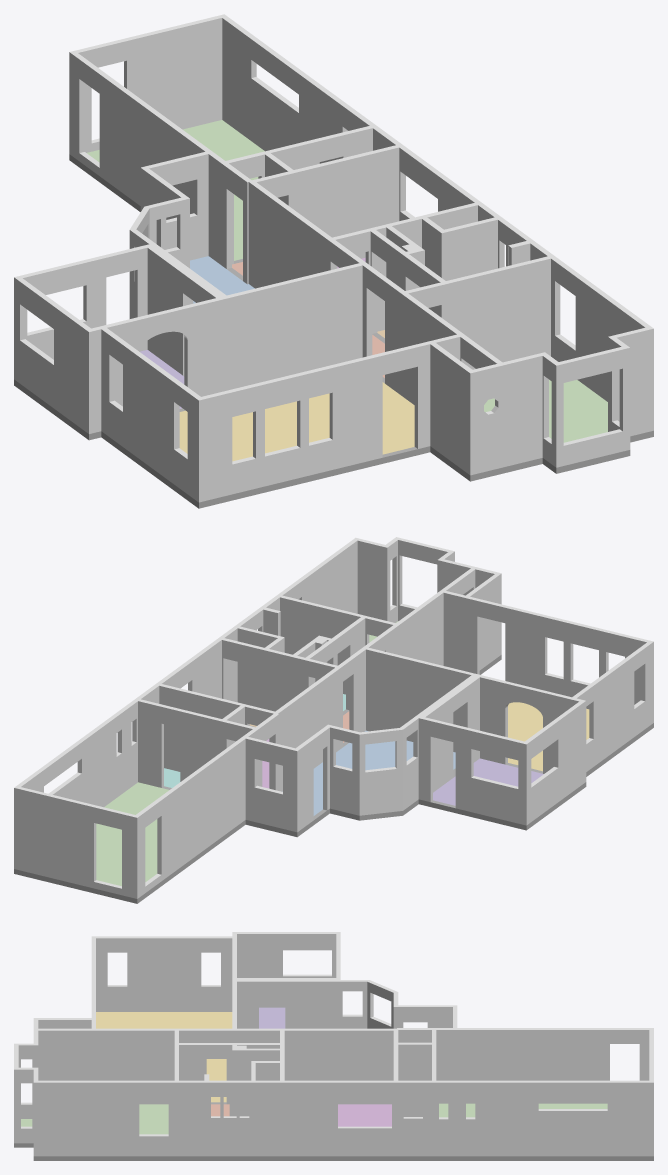
Rendered from dixon_house.gltf.
3 views of the same model, one above another, from view 1: azimuth 30°, elevation 25°; view 2: azimuth 150°, elevation 25°; view 3: azimuth 270°, elevation 25° (orthographic). The views are drawn at different scales.
Parts seen in each view (by area): view 1: Walls, Living Room, Foundation, Front Bedroom, Master Bedroom, Kitchen; view 2: Walls, Foundation, Master Bedroom, Kitchen, Living Room, Dining Room; view 3: Walls, Foundation, Living Room, Den, Front Bedroom, Master Bedroom, Dining Room.
Part boxes in pixels (box(x1,y1,x2,y2)): Walls: box(14, 14, 653, 502); Living Room: box(179, 382, 414, 461); Foundation: box(14, 154, 653, 508); Front Bedroom: box(484, 379, 607, 442); Master Bedroom: box(87, 120, 264, 260); Kitchen: box(190, 256, 254, 303); Walls: box(14, 537, 653, 898); Foundation: box(14, 655, 653, 903); Master Bedroom: box(96, 782, 169, 886); Kitchen: box(282, 730, 455, 815); Living Room: box(508, 702, 589, 771); Dining Room: box(433, 758, 543, 805); Walls: box(14, 932, 653, 1156); Foundation: box(14, 1102, 653, 1160); Living Room: box(96, 1012, 232, 1102); Den: box(338, 1104, 391, 1126); Front Bedroom: box(21, 1104, 168, 1134); Master Bedroom: box(439, 1103, 607, 1117); Dining Room: box(259, 1007, 285, 1028).
Bounding box in the file's own units: 11.02 × 2.67 × 19.8.
